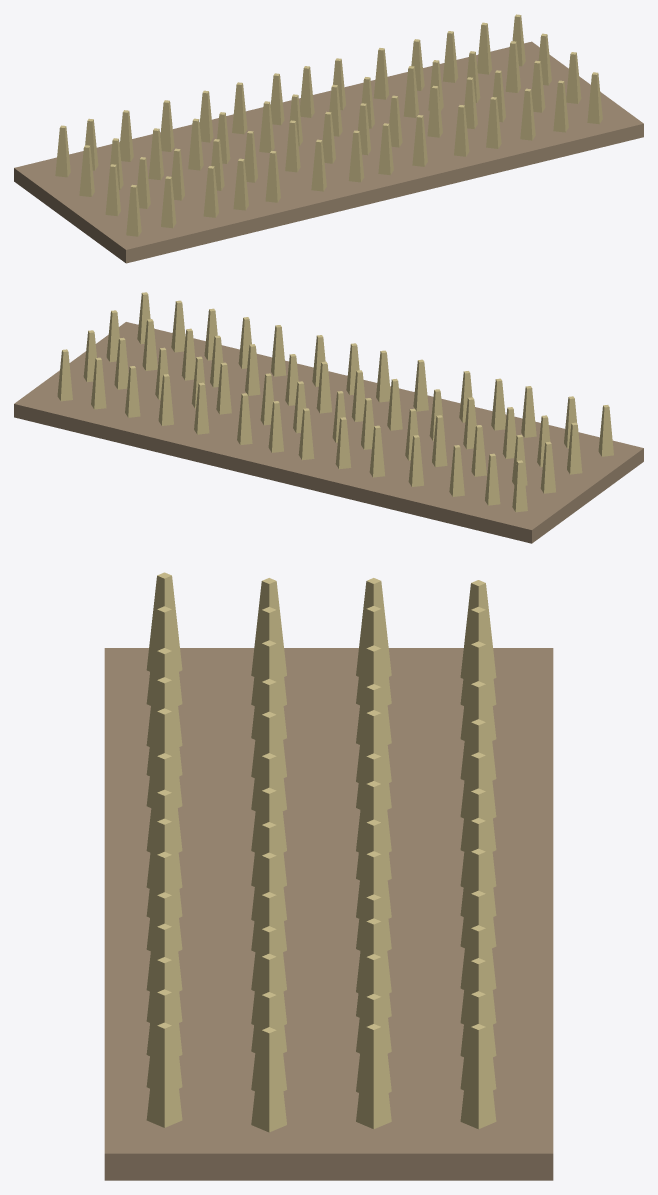
Rendered from terrace_wheat_field.glb.
The picture shows the model from 3 angles, top to bottom: view 1: azimuth 30°, elevation 25°; view 2: azimuth 150°, elevation 25°; view 3: azimuth 270°, elevation 25°; orthographic projection. The views are drawn at different scales.
Visible parts, largest first — view 1: Terrace_Wheat_Field; view 2: Terrace_Wheat_Field; view 3: Terrace_Wheat_Field.
Boxes of the visible parts, x1=… form: Terrace_Wheat_Field: x1=14, y1=14, x2=643, y2=263; Terrace_Wheat_Field: x1=14, y1=292, x2=643, y2=543; Terrace_Wheat_Field: x1=104, y1=572, x2=553, y2=1180.
Size of the model in its own units: 8 by 0.8994 by 3.
